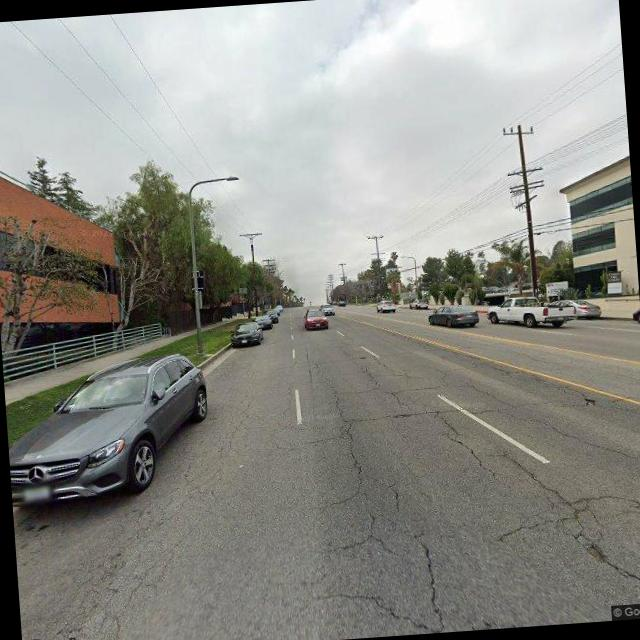crack: (286, 340, 640, 638)
